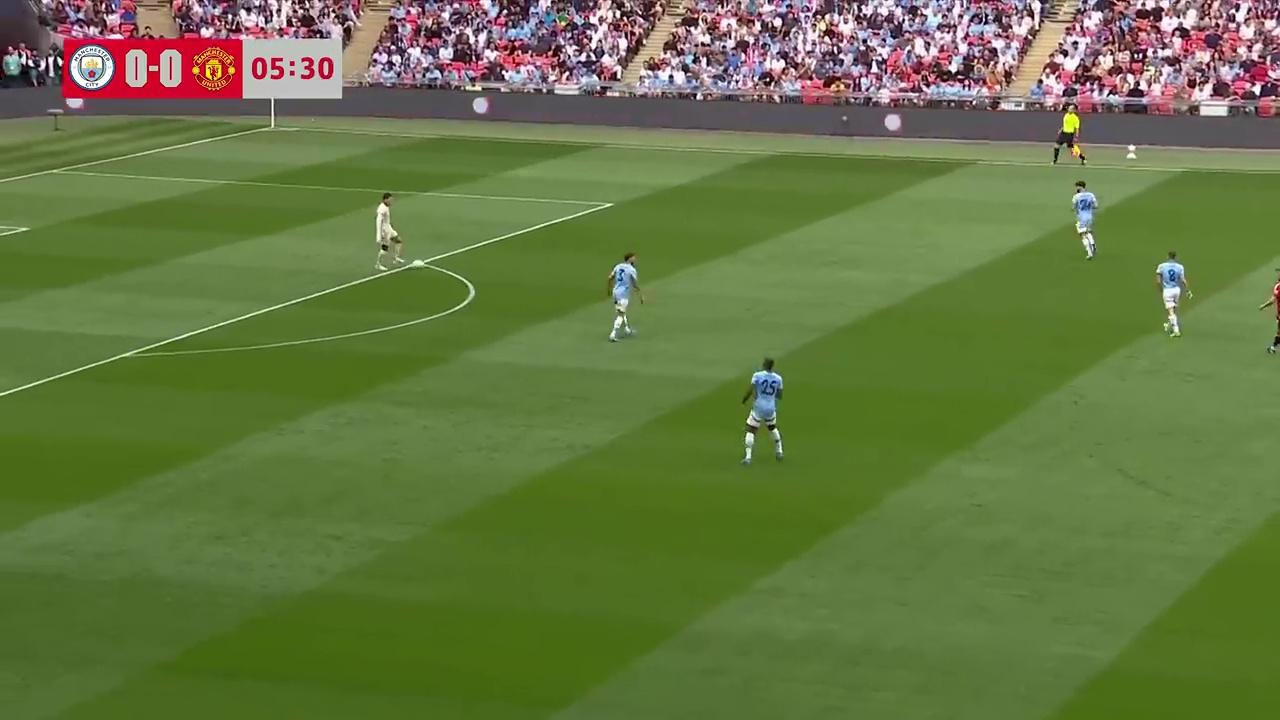ball: (413, 257, 428, 273)
player: (739, 358, 785, 465), (607, 251, 644, 342), (1155, 250, 1191, 337), (1071, 179, 1098, 259), (375, 193, 403, 267), (1257, 269, 1280, 357)
referee: (1052, 108, 1086, 166)
